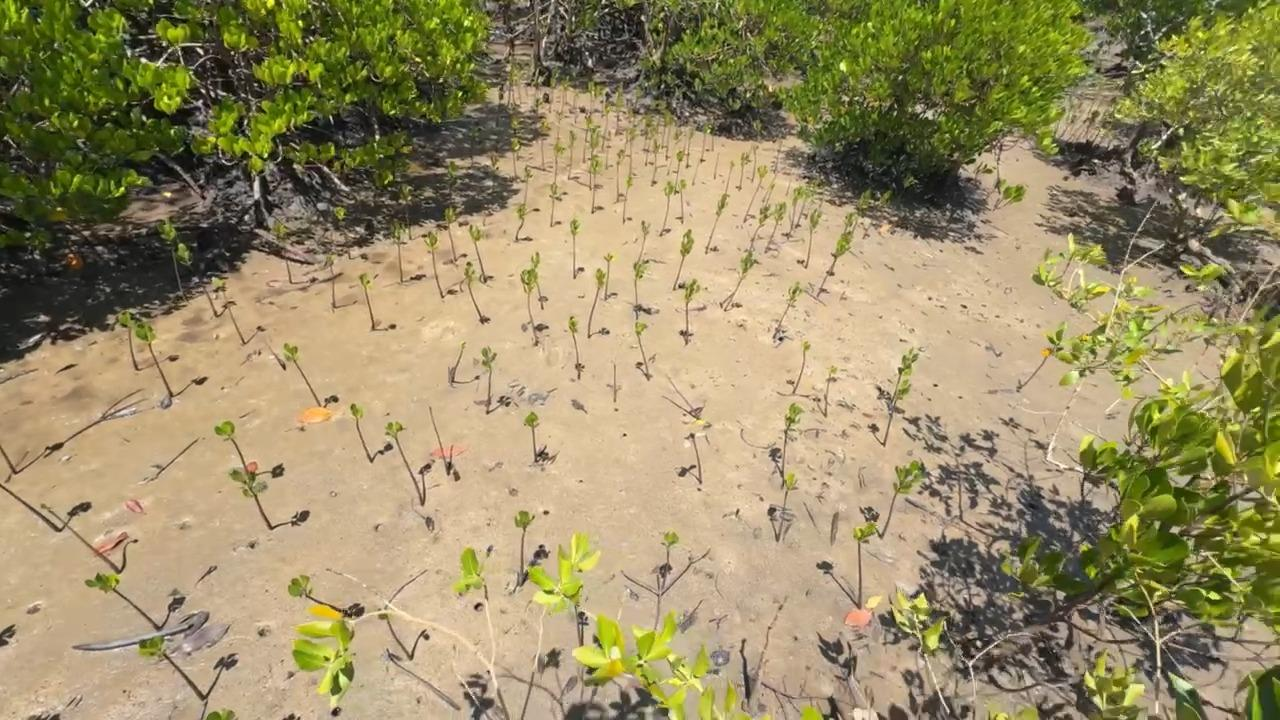Tree: (40, 503, 121, 575), (742, 597, 788, 720), (386, 648, 460, 712), (85, 572, 162, 633), (137, 634, 205, 702), (879, 460, 926, 540), (385, 421, 425, 506), (0, 483, 61, 533), (134, 321, 174, 396), (287, 574, 353, 618), (228, 468, 274, 530), (175, 242, 215, 312), (211, 276, 247, 345), (817, 231, 854, 298), (157, 219, 187, 301), (283, 343, 322, 406), (853, 519, 879, 610), (724, 251, 761, 313), (883, 378, 912, 448), (214, 420, 250, 476), (889, 347, 920, 411), (782, 402, 805, 488), (377, 607, 413, 660), (771, 281, 803, 340), (514, 511, 536, 587), (862, 189, 894, 240), (664, 374, 700, 419), (776, 471, 798, 544), (743, 164, 769, 223), (705, 194, 730, 254), (429, 406, 450, 476), (270, 221, 293, 284), (350, 403, 374, 463), (672, 229, 695, 291), (520, 266, 538, 345), (118, 311, 140, 371), (425, 232, 446, 294), (587, 268, 605, 338), (803, 208, 823, 270), (749, 203, 774, 252), (764, 202, 787, 255), (684, 278, 701, 345), (892, 170, 919, 212), (1016, 357, 1048, 392), (465, 262, 483, 323), (632, 259, 650, 320), (481, 346, 497, 414), (660, 532, 678, 592), (792, 341, 812, 395), (992, 184, 1029, 212), (333, 205, 351, 260), (398, 183, 415, 241), (469, 223, 486, 280), (853, 185, 873, 233), (589, 154, 605, 214), (359, 273, 376, 329), (684, 432, 702, 484), (787, 185, 804, 240), (633, 220, 651, 270), (659, 181, 675, 237), (635, 322, 650, 381), (523, 411, 540, 463), (794, 181, 812, 229), (568, 316, 581, 380), (588, 127, 601, 190), (391, 219, 403, 283), (667, 128, 683, 176), (531, 251, 544, 310), (805, 175, 822, 220), (324, 254, 337, 307), (570, 218, 581, 280), (824, 366, 837, 417), (445, 207, 457, 262), (450, 342, 466, 383), (738, 151, 753, 192), (553, 140, 567, 183), (604, 252, 616, 302), (632, 84, 645, 128), (616, 148, 626, 203), (538, 117, 548, 172), (470, 124, 483, 166), (614, 82, 624, 136), (601, 101, 612, 150), (622, 173, 632, 226), (0, 444, 17, 475), (510, 114, 521, 161), (665, 115, 676, 162), (548, 64, 559, 111), (515, 203, 528, 242), (700, 122, 712, 164), (582, 118, 593, 163), (645, 126, 657, 167), (650, 139, 660, 188), (972, 161, 997, 180), (661, 109, 672, 151), (533, 61, 543, 107), (685, 128, 696, 169), (673, 151, 683, 196), (568, 130, 577, 180), (986, 179, 1008, 199), (448, 160, 459, 200), (203, 708, 238, 720), (762, 175, 777, 203), (678, 178, 687, 224), (549, 182, 558, 228), (510, 137, 520, 178), (523, 164, 533, 204), (628, 128, 636, 178), (561, 74, 573, 105), (642, 115, 652, 152), (843, 211, 858, 234), (506, 66, 514, 109), (725, 160, 735, 194), (554, 110, 564, 143), (491, 152, 499, 193), (1104, 397, 1121, 416), (751, 143, 759, 183), (516, 62, 523, 105), (773, 141, 782, 174), (588, 81, 596, 118), (605, 130, 612, 170), (751, 119, 762, 143), (692, 160, 701, 186), (574, 88, 580, 125), (513, 62, 518, 106), (765, 184, 775, 205), (713, 152, 720, 180), (720, 293, 732, 308), (613, 364, 617, 402), (785, 180, 793, 196), (711, 134, 714, 151)
